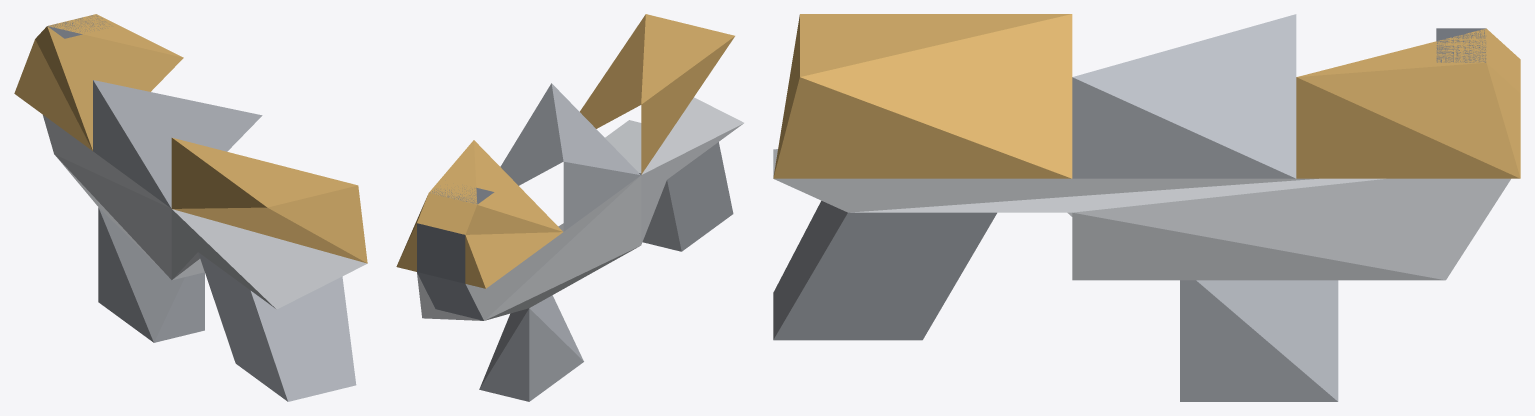
The model's file is weapon_rifle.lod.glb.
3 renders of one model, left to right at view 1: azimuth 30°, elevation 25°; view 2: azimuth 150°, elevation 25°; view 3: azimuth 270°, elevation 25°, orthographic. The views are drawn at different scales.
Parts seen in each view (by area): view 1: weapon_rifle; view 2: weapon_rifle; view 3: weapon_rifle.
Part boxes in pixels (left/top/right/bottom): weapon_rifle: left=14, top=14, right=367, bottom=401; weapon_rifle: left=396, top=14, right=743, bottom=401; weapon_rifle: left=773, top=14, right=1520, bottom=401.
Size of the model in its own units: 0.1 by 0.25 by 0.5.
